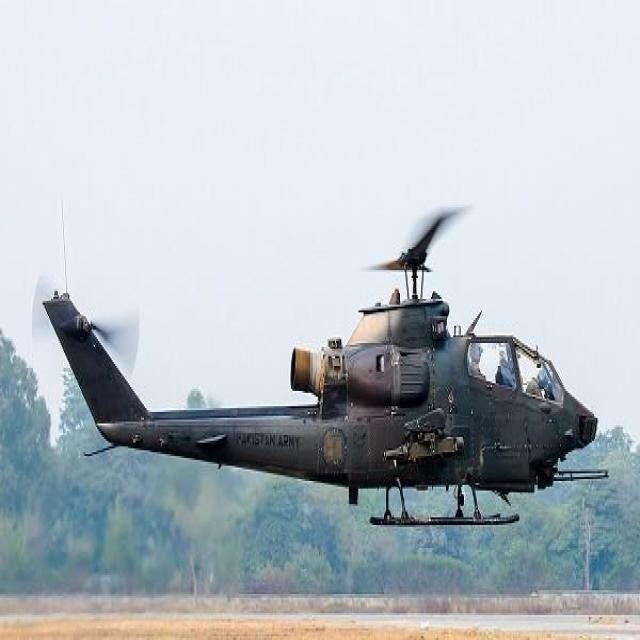MIL_HELO: (44, 157, 626, 561)
